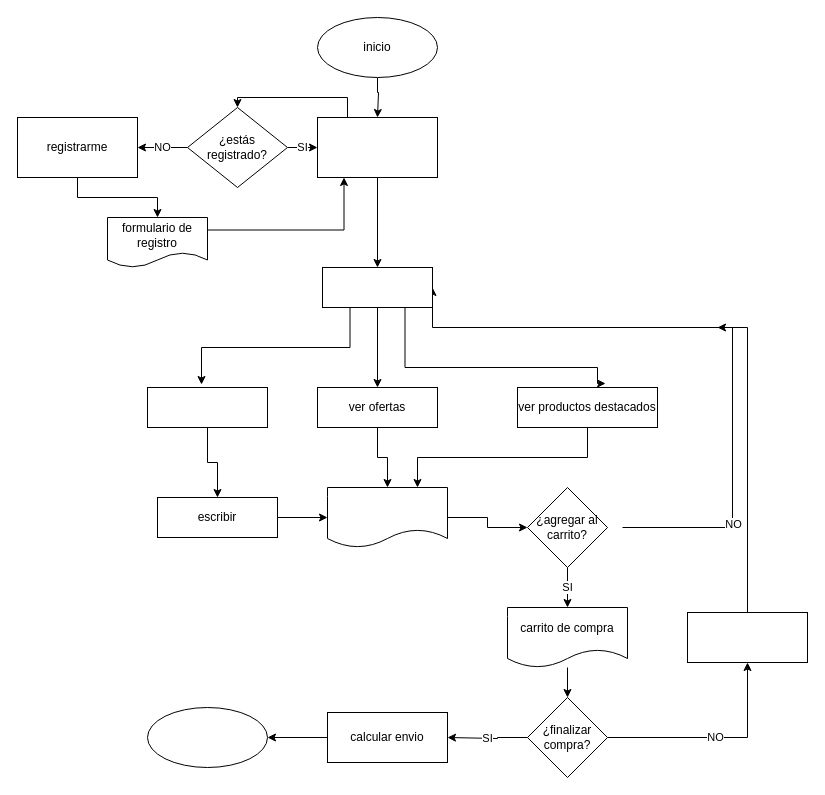
This 825x795 diagram has some shape labels left out. The shapes that lost their labels are listed below. From the top down, each one's centre as x and y in pixels, then its label:
pixel 377 147: formulario de login
pixel 377 287: home
pixel 207 407: buscar producto
pixel 387 517: producto buscado
pixel 747 637: seguir viendo porductos
pixel 207 737: cerrar sesión
